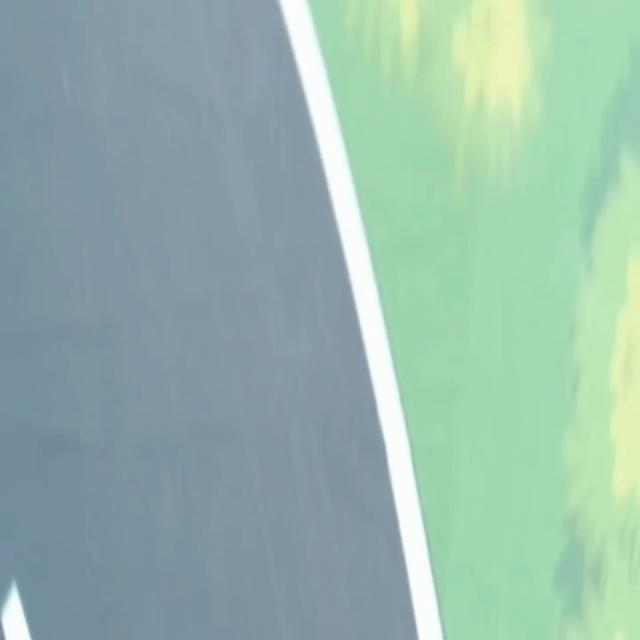center: (0, 580, 31, 639)
right: (278, 0, 442, 639)
